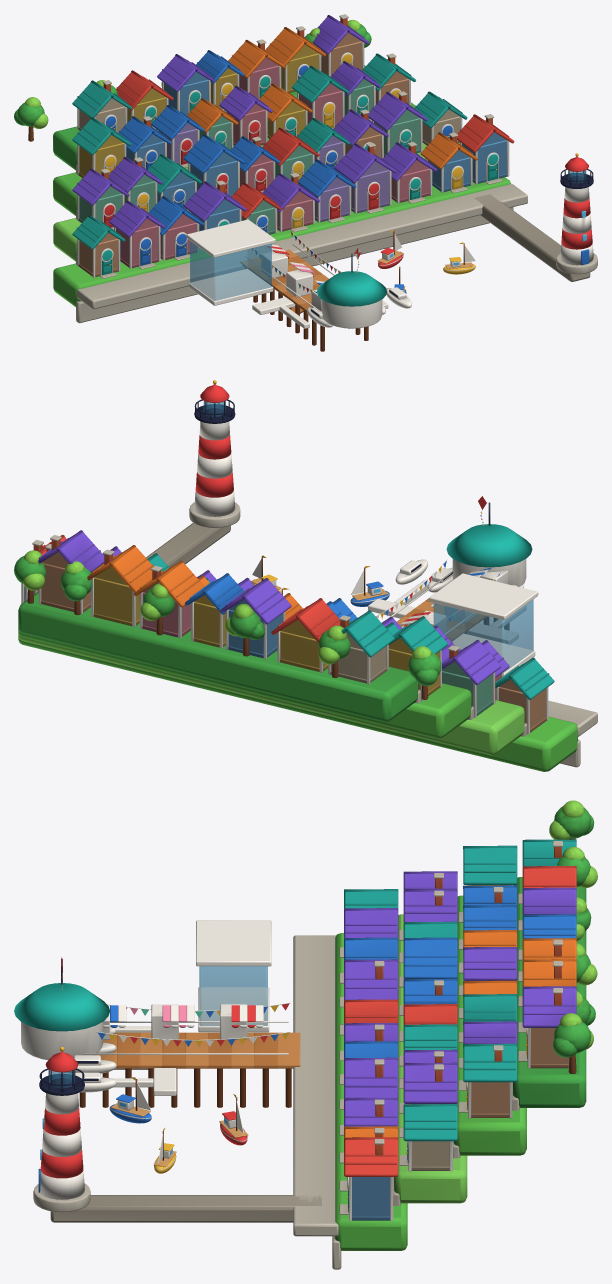
Rendered from harbour.glb.
3 views of the same model, one above another, from view 1: azimuth 30°, elevation 25°; view 2: azimuth 150°, elevation 25°; view 3: azimuth 270°, elevation 25° (orthographic). The views are drawn at different scales.
Visible parts, largest first — view 1: harbour_Satin, harbour_Gloss, harbour_Matte, Marina_Satin, Marina_Glass, Pier_old_Satin, Pier_restored_Satin, Pier_restored_Gloss, Marina_Gloss; view 2: harbour_Matte, harbour_Satin, harbour_Gloss, Marina_Satin, Marina_Glass, Pier_restored_Gloss, Pier_old_Satin, Pier_restored_Satin, Marina_Gloss; view 3: harbour_Gloss, harbour_Satin, harbour_Matte, Pier_old_Satin, Marina_Satin, Pier_restored_Satin, Pier_restored_Gloss, Marina_Glass, Marina_Gloss.
Boxes of the visible parts, left/top/right/bottom form: harbour_Satin: left=14, top=14, right=597, bottom=323; harbour_Gloss: left=72, top=15, right=593, bottom=293; harbour_Matte: left=53, top=65, right=510, bottom=306; Marina_Satin: left=186, top=219, right=388, bottom=328; Marina_Glass: left=190, top=241, right=271, bottom=300; Pier_old_Satin: left=241, top=244, right=367, bottom=351; Pier_restored_Satin: left=240, top=230, right=382, bottom=351; Pier_restored_Gloss: left=250, top=244, right=386, bottom=311; Marina_Gloss: left=307, top=287, right=411, bottom=327; harbour_Matte: left=18, top=592, right=577, bottom=771; harbour_Satin: left=14, top=401, right=597, bottom=767; harbour_Gloss: left=38, top=384, right=554, bottom=699; Marina_Satin: left=368, top=573, right=538, bottom=675; Marina_Glass: left=433, top=599, right=533, bottom=672; Pier_restored_Gloss: left=386, top=524, right=532, bottom=634; Pier_old_Satin: left=397, top=567, right=508, bottom=640; Pier_restored_Satin: left=375, top=496, right=526, bottom=641; Marina_Gloss: left=395, top=559, right=523, bottom=592; harbour_Gloss: left=38, top=839, right=576, bottom=1212; harbour_Satin: left=33, top=800, right=597, bottom=1269; harbour_Matte: left=334, top=877, right=586, bottom=1250; Pier_old_Satin: left=94, top=1004, right=300, bottom=1107; Marina_Satin: left=111, top=920, right=271, bottom=1095; Pier_restored_Satin: left=21, top=957, right=291, bottom=1107; Pier_restored_Gloss: left=14, top=983, right=288, bottom=1054; Marina_Glass: left=199, top=966, right=267, bottom=1025; Marina_Gloss: left=64, top=1026, right=116, bottom=1092.
Size of the model in its own units: 30.33 by 10.71 by 25.51.
